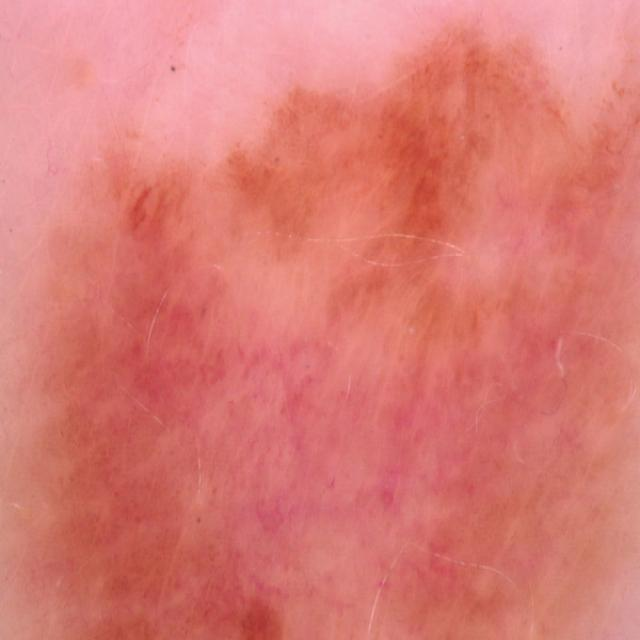NV: (0, 16, 639, 639)
